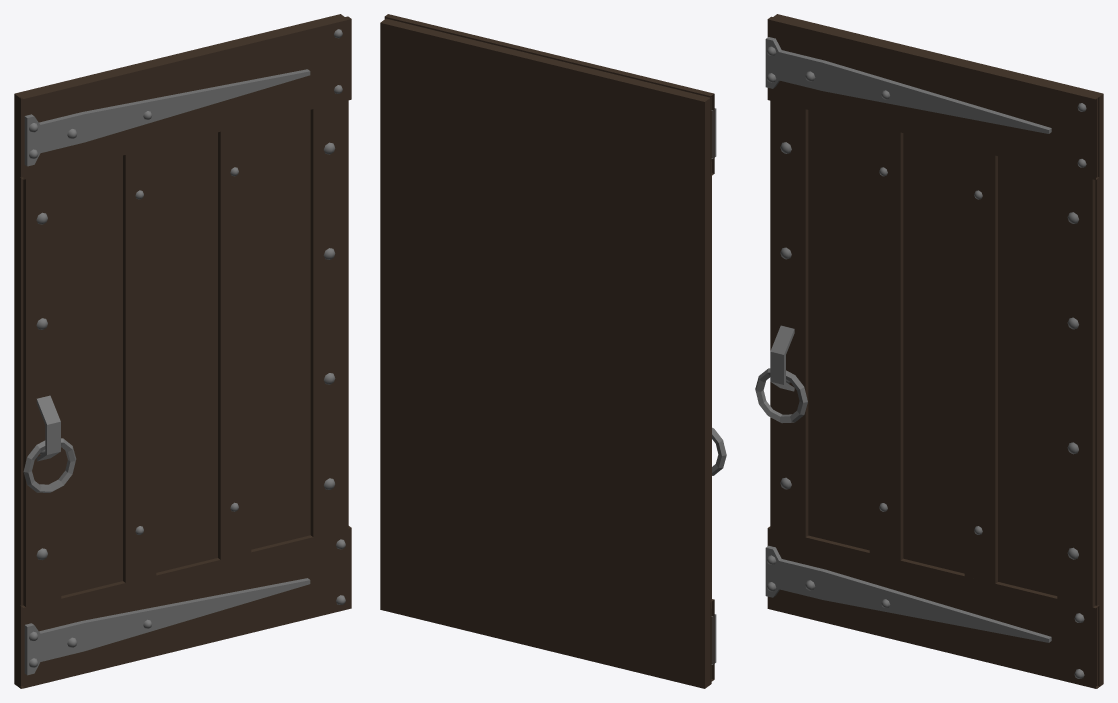
The model's file is SM_door_norse_01.fbx.
3 views of the same model, side by side, from view 1: azimuth 30°, elevation 25°; view 2: azimuth 150°, elevation 25°; view 3: azimuth 330°, elevation 25° (orthographic).
Visible parts, largest first — view 1: Box038; view 2: Box038; view 3: Box038.
Boxes of the visible parts, left/top/right/bottom form: Box038: left=14, top=14, right=351, bottom=688; Box038: left=380, top=14, right=726, bottom=688; Box038: left=755, top=14, right=1103, bottom=688.
Size of the model in its own units: 52.75 by 89.22 by 5.45.
